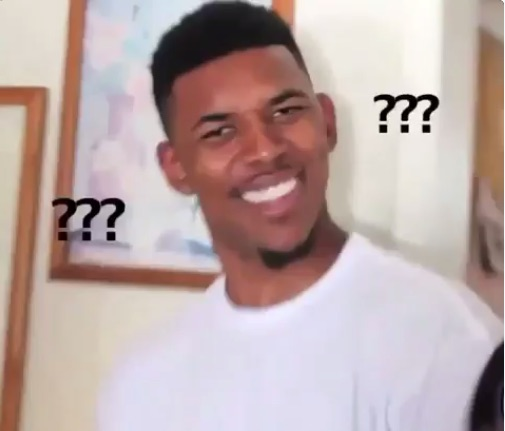confused: (163, 66, 339, 264)
